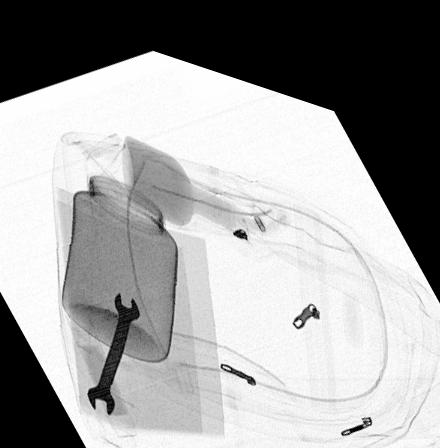Wrench: (84, 283, 142, 410)
